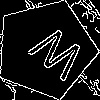W: (21, 24, 89, 89)
